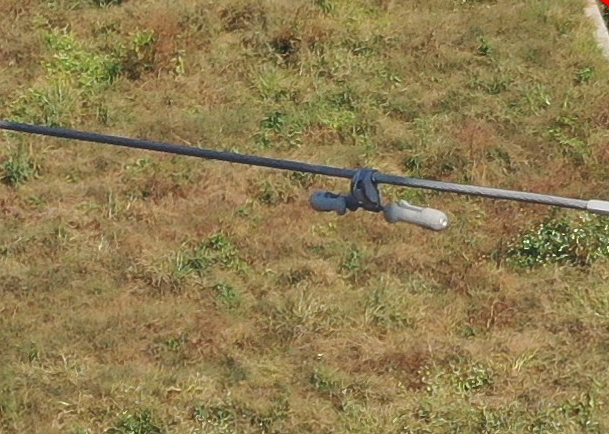damper: (307, 164, 449, 234)
